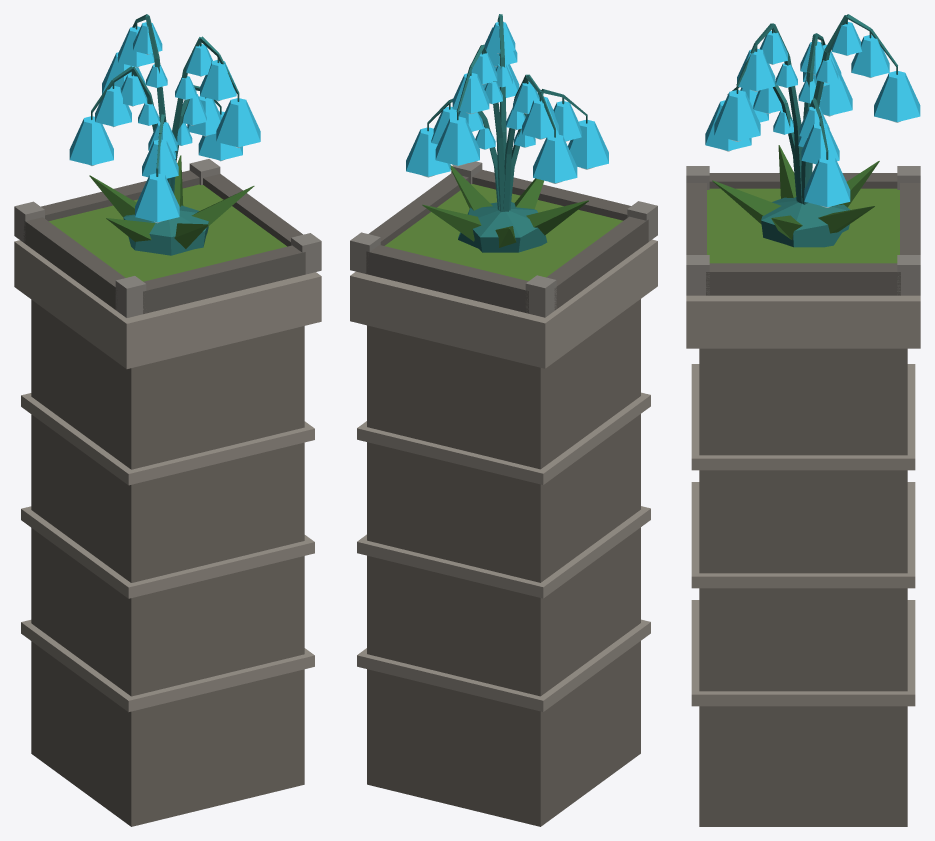
The model's file is decor_glow_bells.glb.
3 renders of one model, left to right at view 1: azimuth 30°, elevation 25°; view 2: azimuth 150°, elevation 25°; view 3: azimuth 270°, elevation 25°, orthographic. The views are drawn at different scales.
Parts seen in each view (by area): view 1: decor_glow_bells; view 2: decor_glow_bells; view 3: decor_glow_bells.
Part boxes in pixels (<box>): decor_glow_bells: <box>14,14,321,826</box>; decor_glow_bells: <box>350,14,657,826</box>; decor_glow_bells: <box>686,14,920,826</box>.
Bounding box in the file's own units: 1.8 × 6.52 × 1.8.
